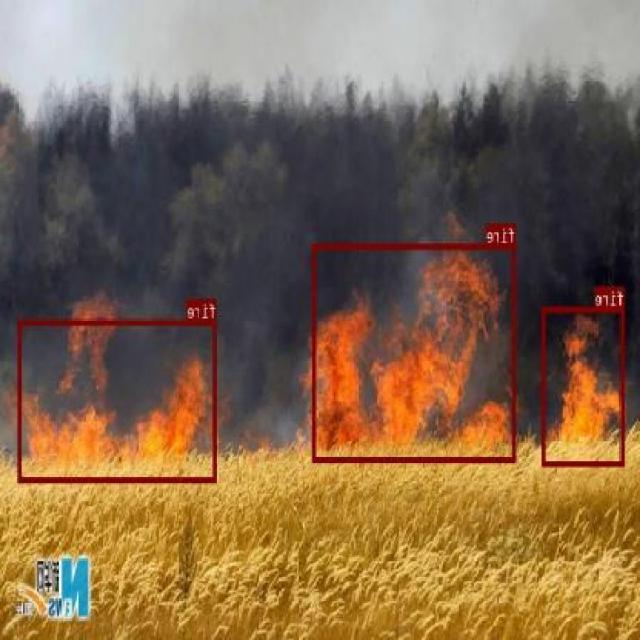Fire: (313, 243, 516, 462), (19, 318, 218, 482), (543, 306, 625, 465)
